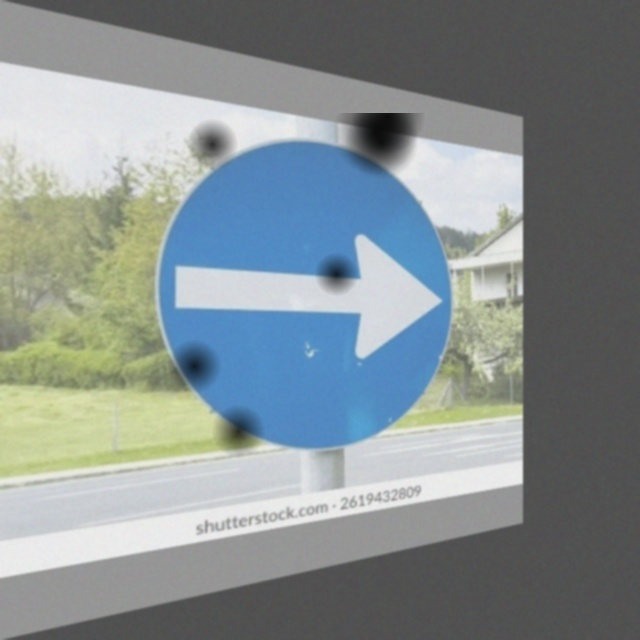Compulsory_Turn_Right: (165, 113, 453, 465)
